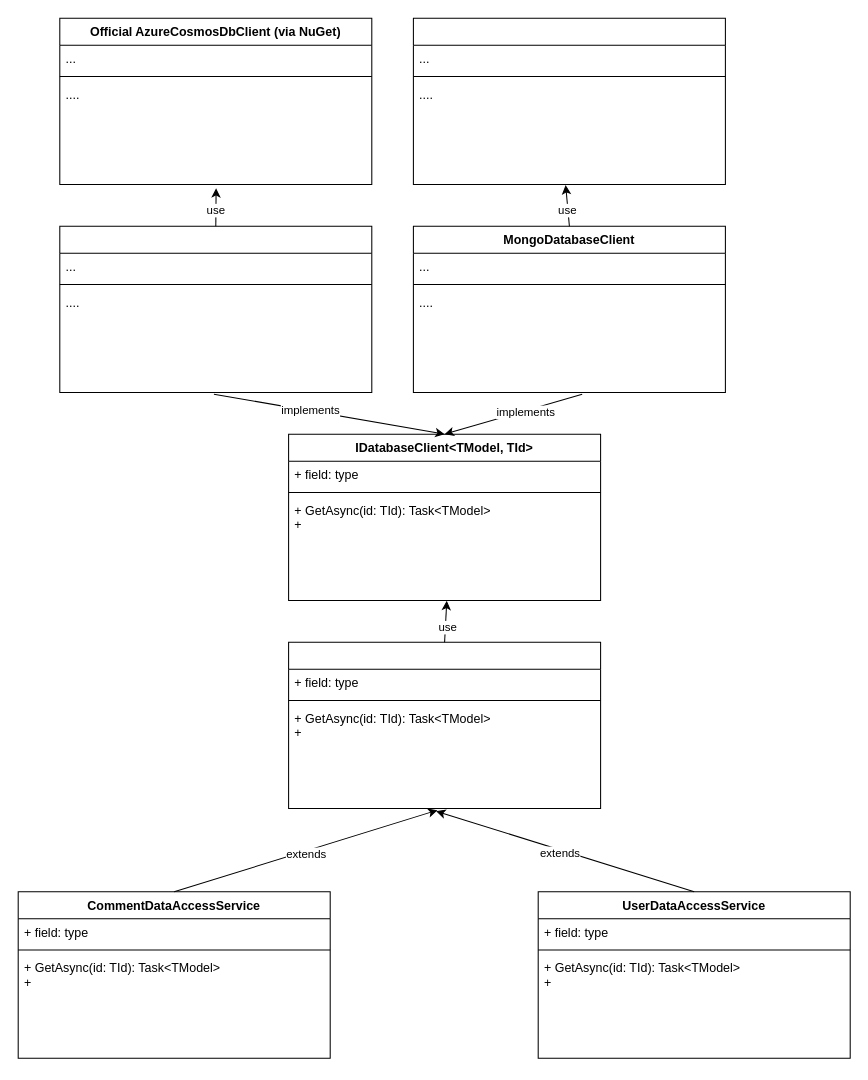
Some shapes in this 868 by 1080 pixel diagram are drawn without their labels. The shapes that lost their labels are listed below. From the top down, each one's box as (x1, y1, x2, y2) in pixels, then its label:
(412, 17, 725, 185): Official MongoClient (via NuGet)
(59, 225, 372, 393): AzureCosmosDatabaseClient
(288, 641, 601, 809): DataAccessServiceBase
